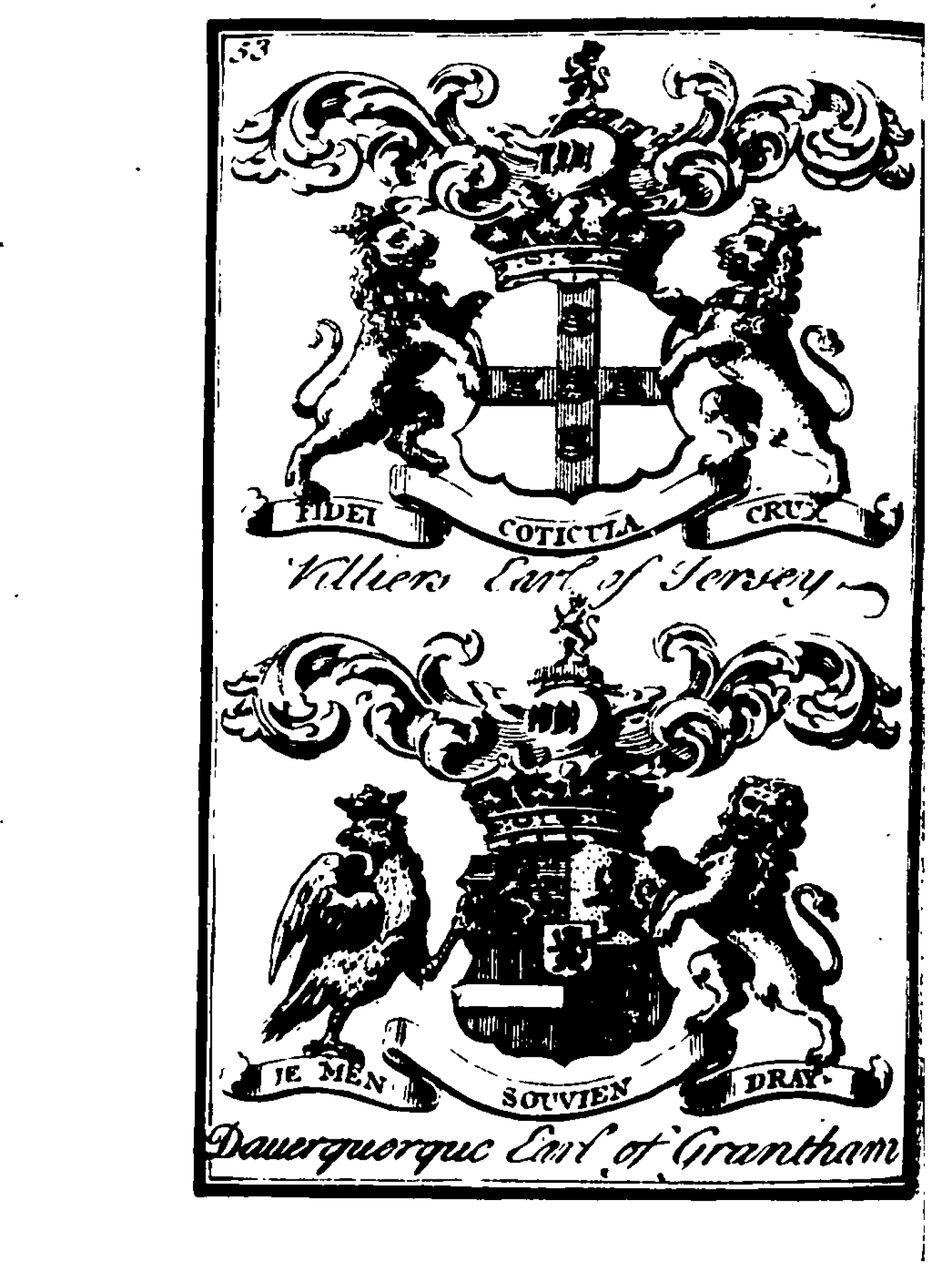coat_of_arms: (224, 40, 903, 616), (219, 611, 907, 1175)
